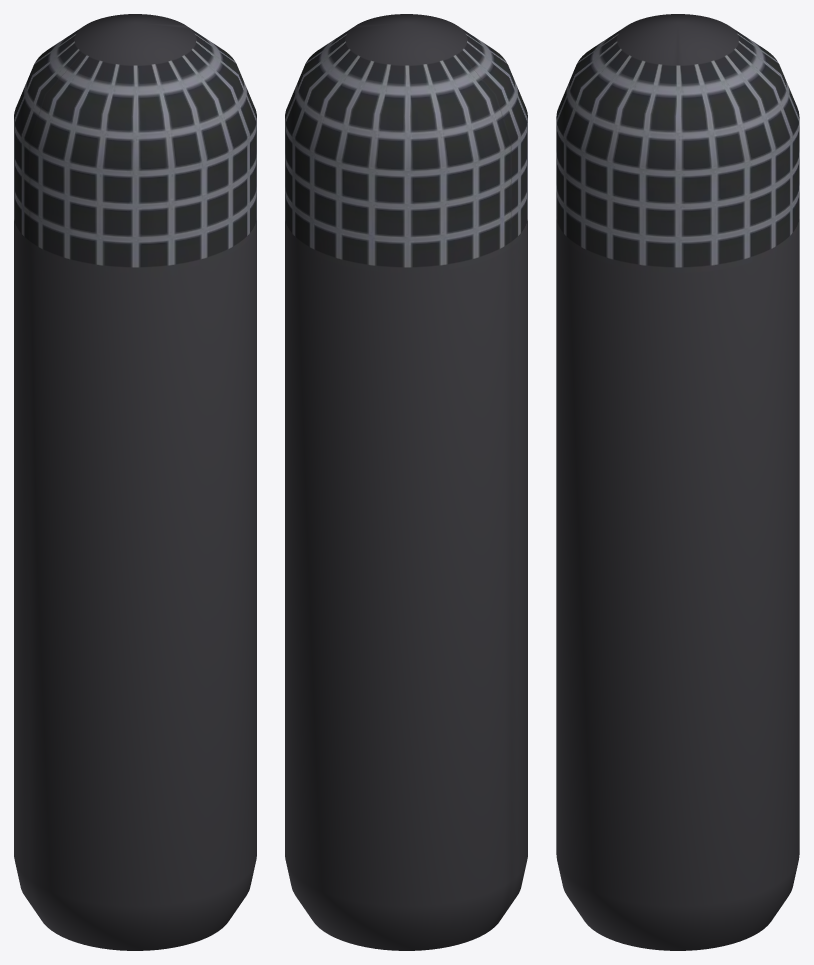
Rendered from sanken-cos-11d.glb.
3 renders of one model, left to right at view 1: azimuth 30°, elevation 25°; view 2: azimuth 150°, elevation 25°; view 3: azimuth 270°, elevation 25°, orthographic.
Parts seen in each view (by area): view 1: sanken-cos-11d-body; view 2: sanken-cos-11d-body; view 3: sanken-cos-11d-body.
Boxes of the visible parts, <box> form: sanken-cos-11d-body: <box>14,14,256,950</box>; sanken-cos-11d-body: <box>285,14,527,950</box>; sanken-cos-11d-body: <box>556,14,799,950</box>.
Bounding box in the file's own units: 0.004 × 0.0161 × 0.004.
Materials: 1 (1 with a texture image).
